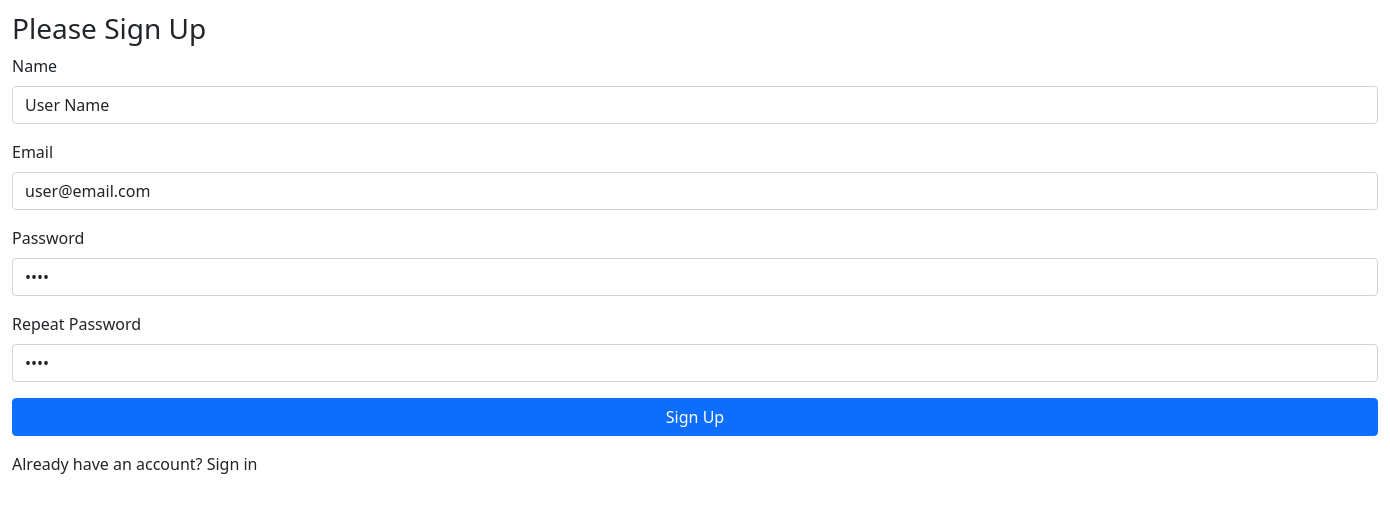
Scenario: sign up page › when already exists user with email › should show server error message
The width and height of the screenshot is (1390, 528).
Click the button "Sign Up".
click(695, 417)  # box 12,398 -> 1378,436
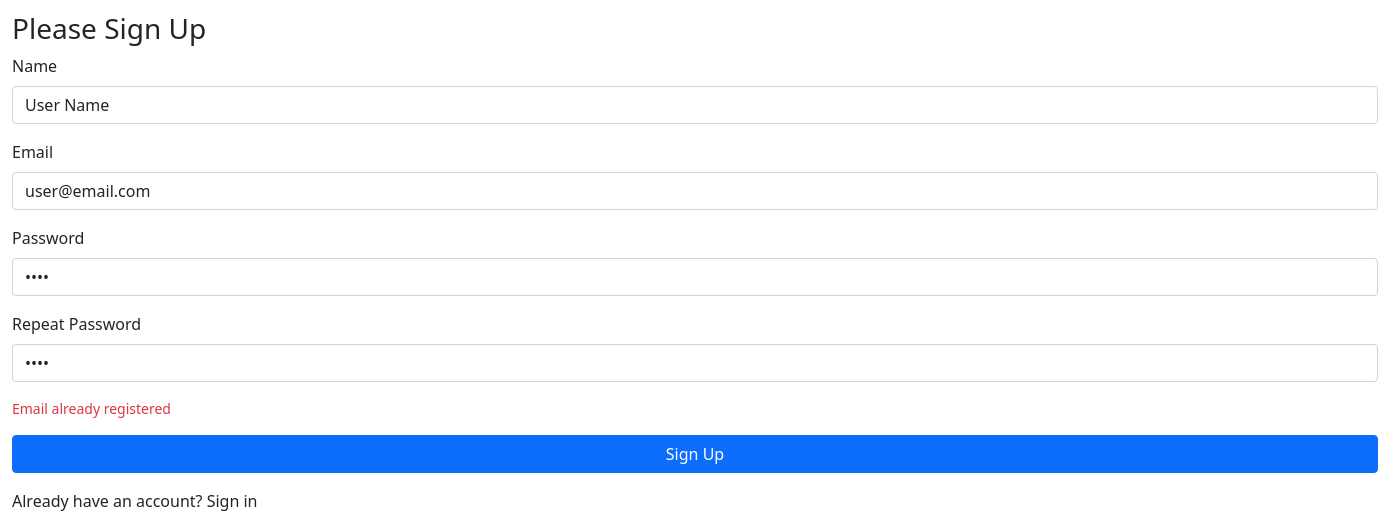
Expected: the text with class "server-error-message" reads "Email already registered", 12,399 -> 171,418
